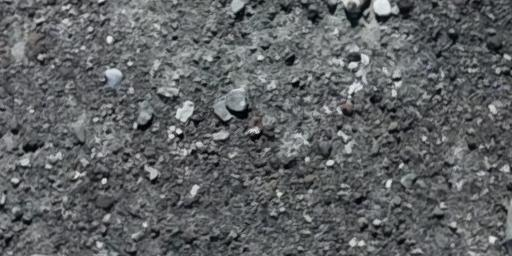skua: (337, 0, 376, 31)
